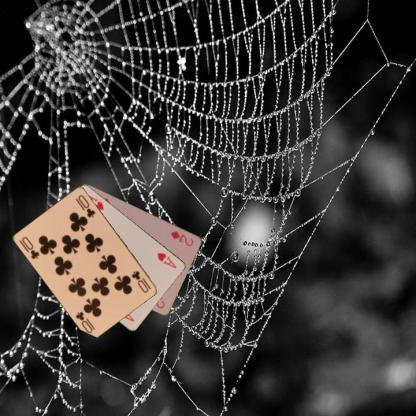10c: (129, 268, 152, 294), (20, 234, 41, 261)
2d: (168, 228, 195, 247)
Ah: (155, 250, 178, 270)
